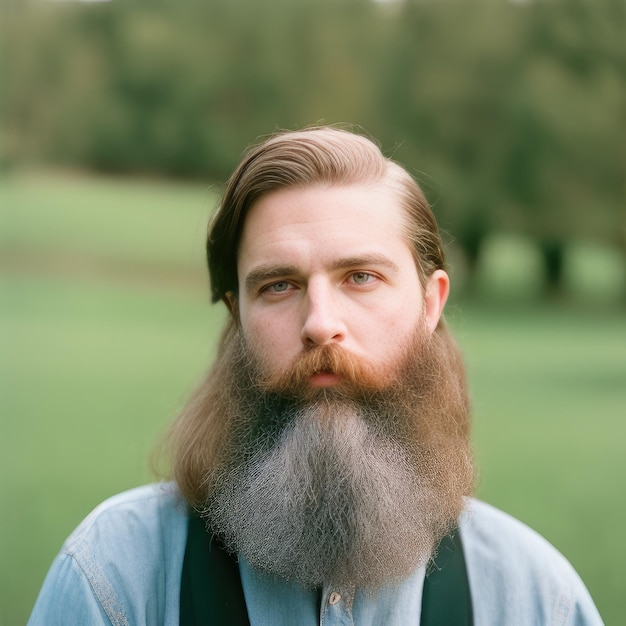young: (186, 125, 438, 579)
